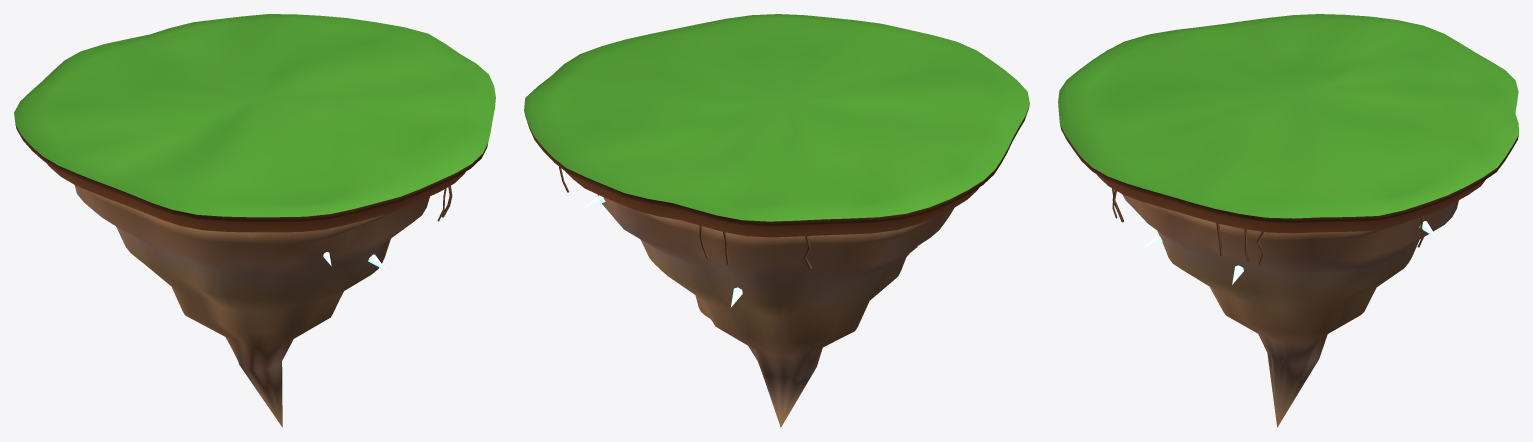
The model's file is insel_2.glb.
The picture shows the model from 3 angles, left to right: view 1: azimuth 30°, elevation 25°; view 2: azimuth 150°, elevation 25°; view 3: azimuth 270°, elevation 25°; orthographic projection. The views are drawn at different scales.
Visible parts, largest first — view 1: insel_2_lod0; view 2: insel_2_lod0, insel_2_lod0_extra; view 3: insel_2_lod0, insel_2_lod0_extra.
Part boxes in pixels (x1,y1,x2,y2): insel_2_lod0: (14,14,495,427); insel_2_lod0: (524,14,1029,427); insel_2_lod0_extra: (559,166,812,307); insel_2_lod0: (1058,14,1518,427); insel_2_lod0_extra: (1112,188,1441,284).
Size of what is drawn, in the model's own units: 20.95 by 15.62 by 19.99.
